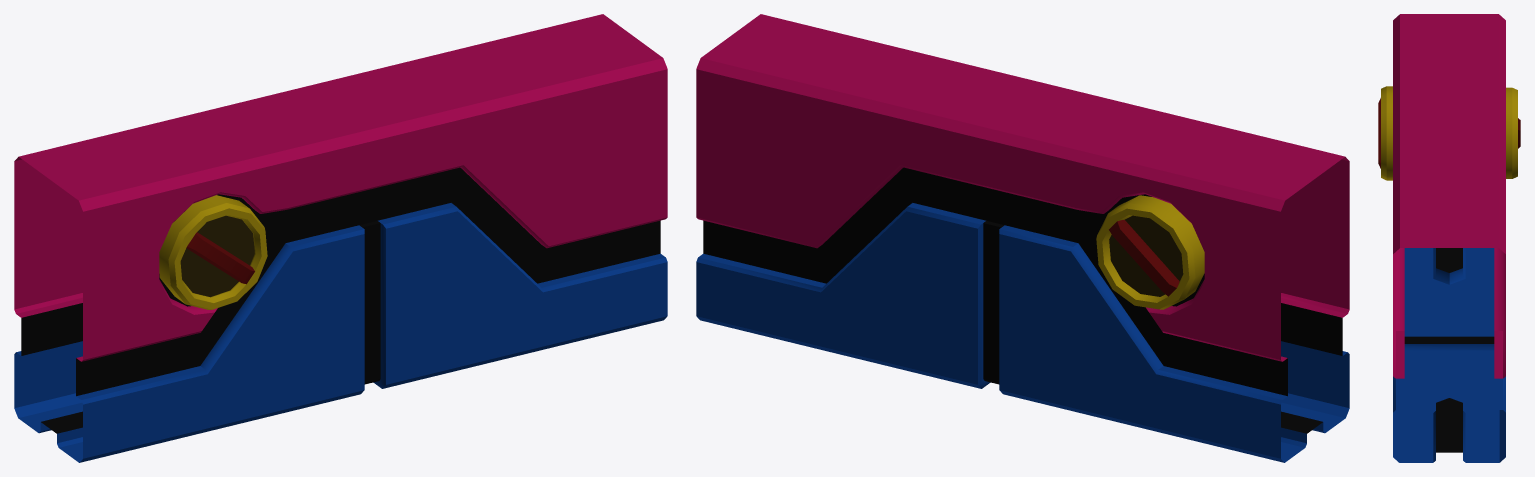
Rendered from OBJ_Pilier_VAR_1_Cube.fbx.
The picture shows the model from 3 angles, left to right: view 1: azimuth 30°, elevation 25°; view 2: azimuth 150°, elevation 25°; view 3: azimuth 270°, elevation 25°; orthographic projection. The views are drawn at different scales.
Parts seen in each view (by area): view 1: OBJ_Pilier_VAR_1_Cube; view 2: OBJ_Pilier_VAR_1_Cube; view 3: OBJ_Pilier_VAR_1_Cube.
Part boxes in pixels (x1,y1,x2,y2): OBJ_Pilier_VAR_1_Cube: (14, 14, 667, 462); OBJ_Pilier_VAR_1_Cube: (696, 14, 1349, 462); OBJ_Pilier_VAR_1_Cube: (1378, 14, 1520, 462).
Bounding box in the file's own units: 4800 × 2055 × 1236.
